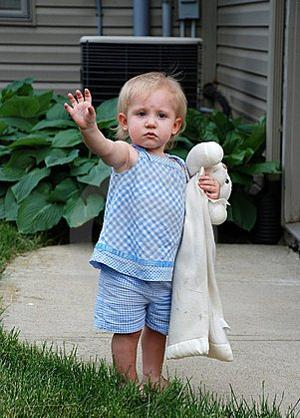person: (65, 73, 222, 398)
